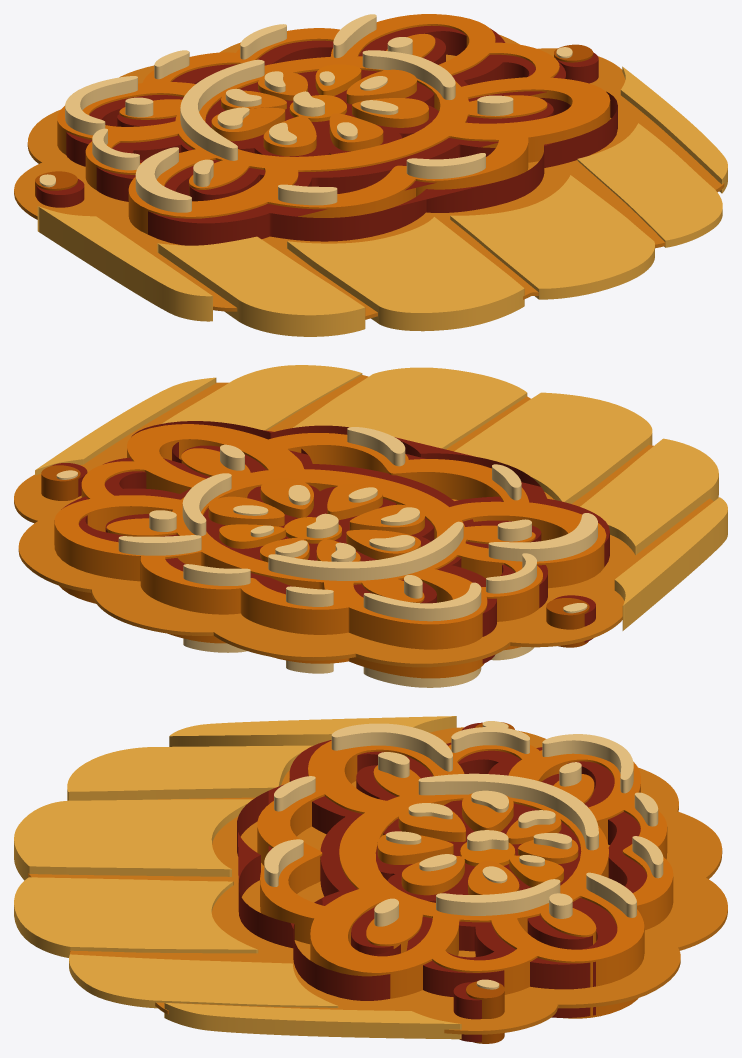
File: emoji_u1f96e.glb
3 views of the same model, one above another, from view 1: azimuth 30°, elevation 25°; view 2: azimuth 150°, elevation 25°; view 3: azimuth 270°, elevation 25° (orthographic). The views are drawn at different scales.
Parts seen in each view (by area): view 1: emoji_u1f96e; view 2: emoji_u1f96e; view 3: emoji_u1f96e.
Part boxes in pixels (x1,y1,x2,y2): emoji_u1f96e: (14,14,727,336); emoji_u1f96e: (14,365,727,687); emoji_u1f96e: (14,716,727,1043).
Size of the model in its own units: 0.0342 by 0.0044 by 0.0339.
